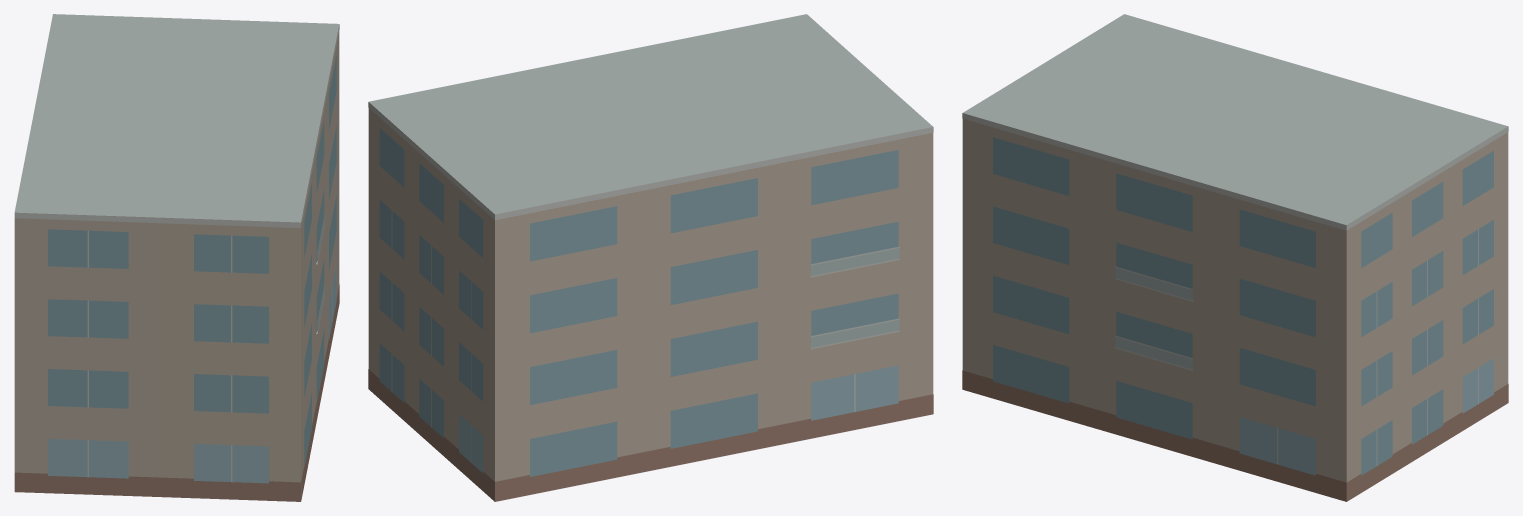
File: residential-14c19bf2-f18d-42e6-a256-f23c330b45f0.glb
3 views of the same model, side by side, from view 1: azimuth 30°, elevation 25°; view 2: azimuth 150°, elevation 25°; view 3: azimuth 270°, elevation 25° (orthographic). The views are drawn at different scales.
Parts seen in each view (by area): view 1: residential-14c19bf2-f18d-42e6-a256-f23c330b45f0.tmp; view 2: residential-14c19bf2-f18d-42e6-a256-f23c330b45f0.tmp; view 3: residential-14c19bf2-f18d-42e6-a256-f23c330b45f0.tmp.
Boxes of the visible parts, bbox=[...] form: residential-14c19bf2-f18d-42e6-a256-f23c330b45f0.tmp: bbox=[14, 14, 339, 501]; residential-14c19bf2-f18d-42e6-a256-f23c330b45f0.tmp: bbox=[368, 14, 933, 501]; residential-14c19bf2-f18d-42e6-a256-f23c330b45f0.tmp: bbox=[962, 14, 1508, 501].
Size of the model in its own units: 19.99 by 12.2 by 21.83.
